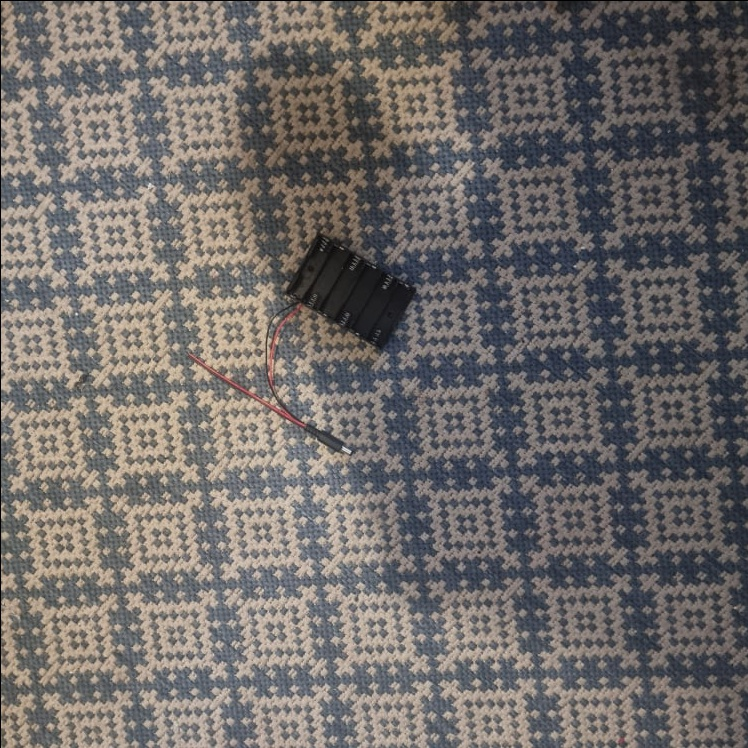BATTERY BOX: (284, 230, 417, 348)
